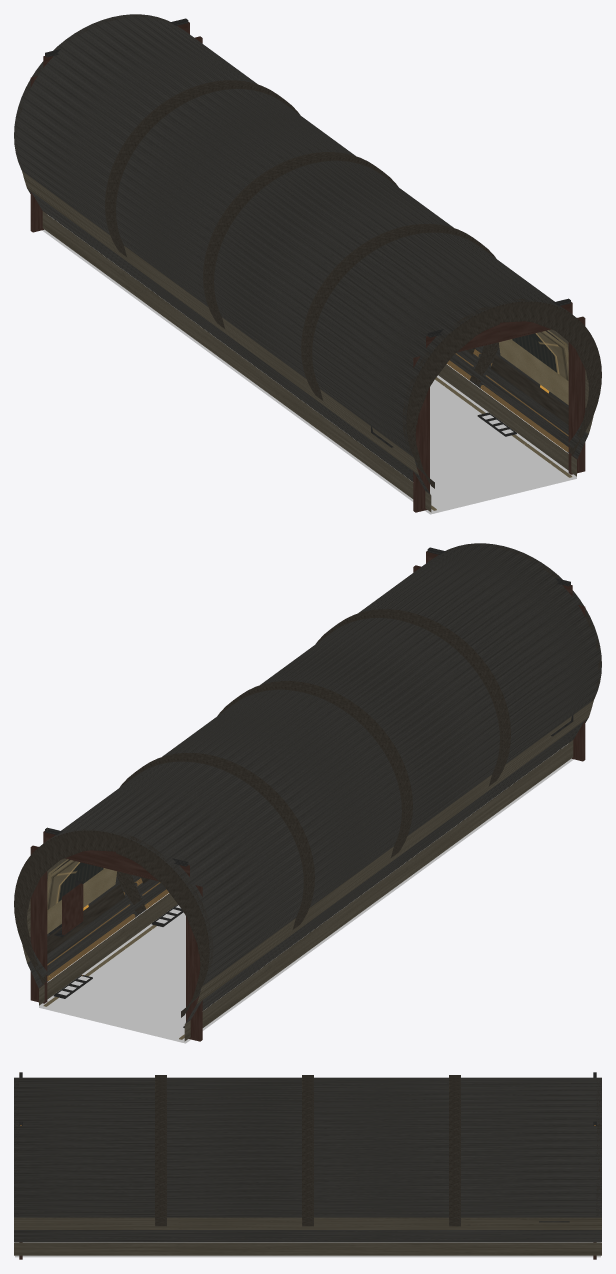
Rendered from destiny_corridor.obj.
3 views of the same model, one above another, from view 1: azimuth 30°, elevation 25°; view 2: azimuth 150°, elevation 25°; view 3: azimuth 270°, elevation 25° (orthographic). The views are drawn at different scales.
Size of the model in its own units: 4.17 by 3.85 by 14.
